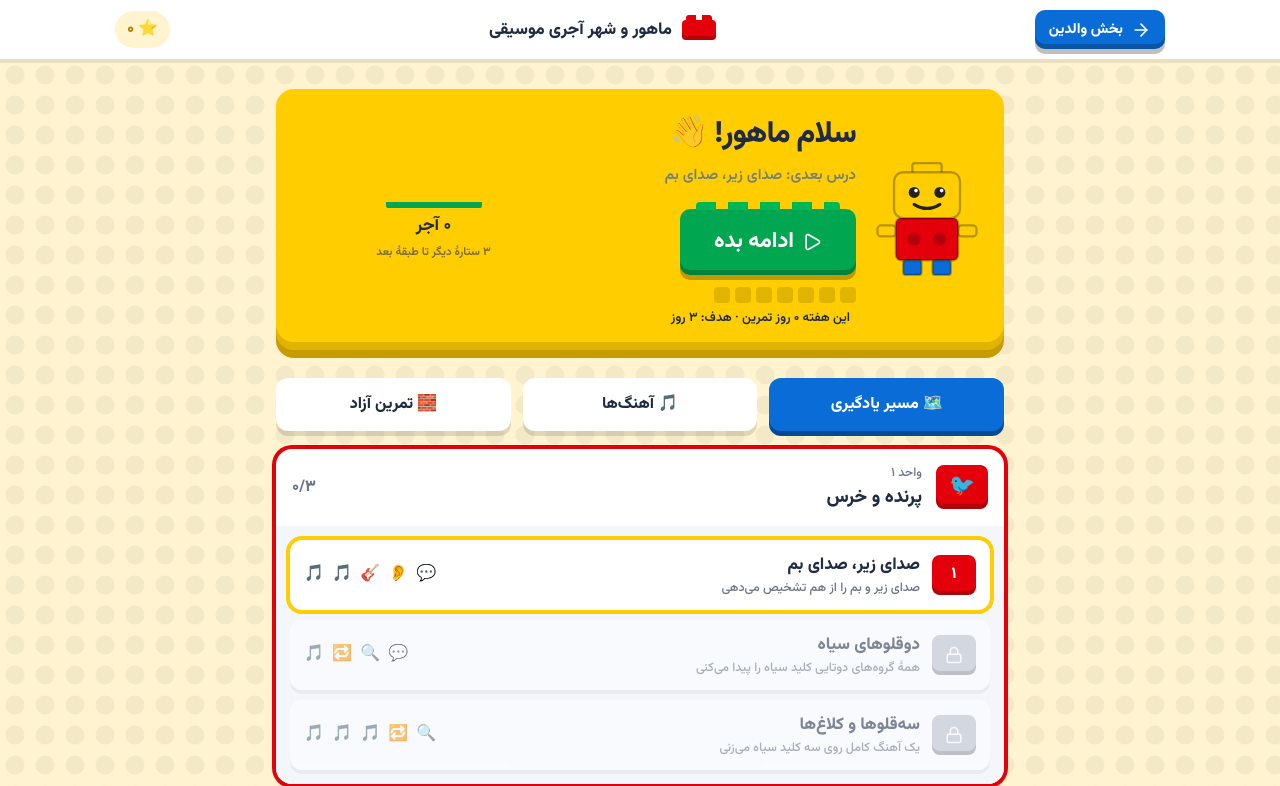
Test: a keyboard whose keys sit an octave down is learned, not fought
Click the tab "🧱 تمرین آزاد": (393, 404) [276,378,511,431]
(page scrolled)
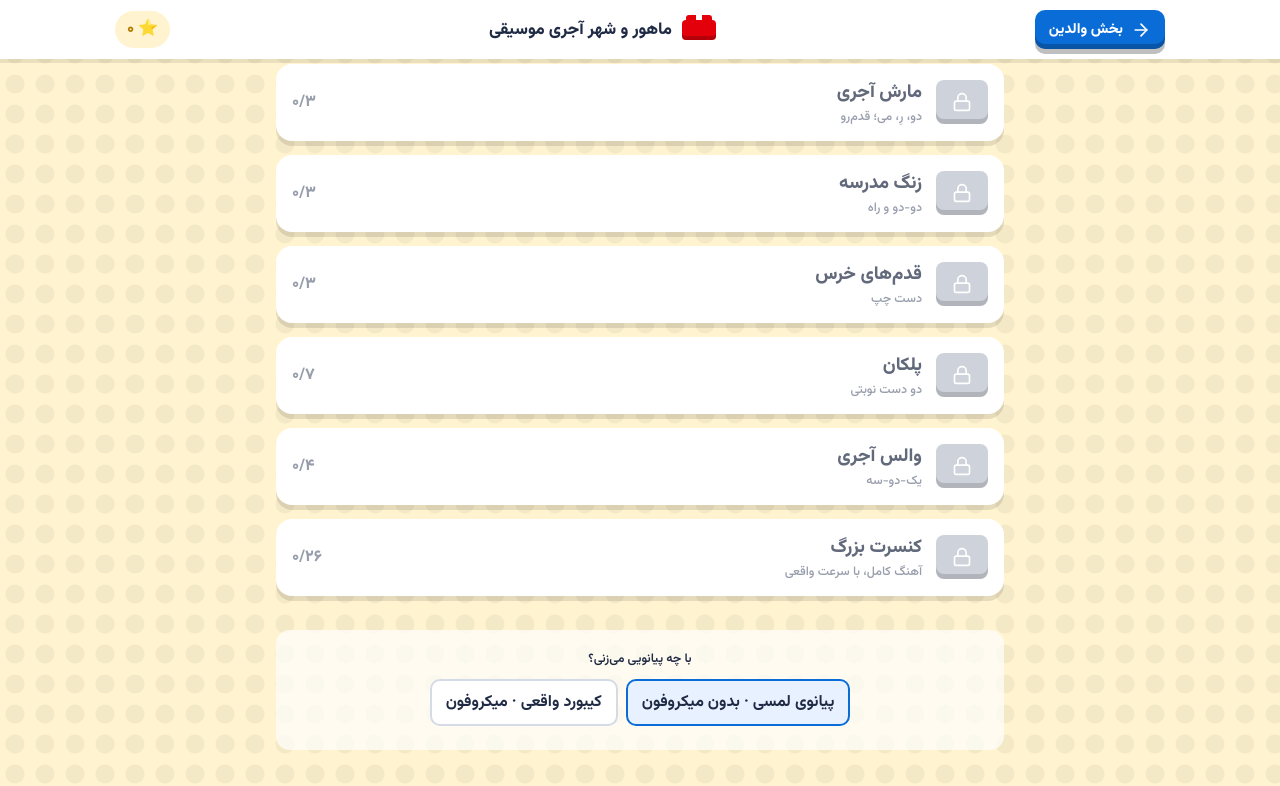
Click the button "کیبورد واقعی · میکروفون": (524, 702) [430,679,618,726]
(page scrolled)
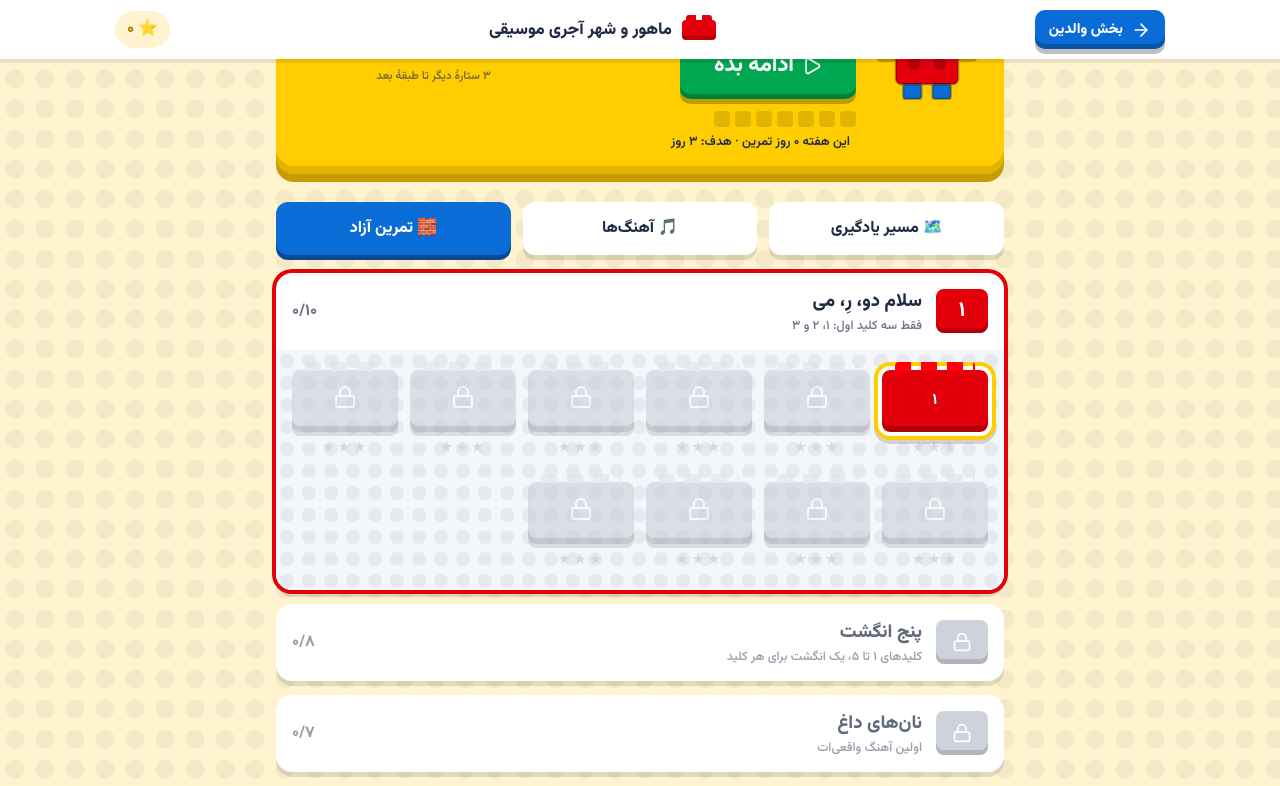
Click the button named "مرحله 1: سلام دو، رِ، می ۱": (935, 401) [882,370,988,432]
(page scrolled)
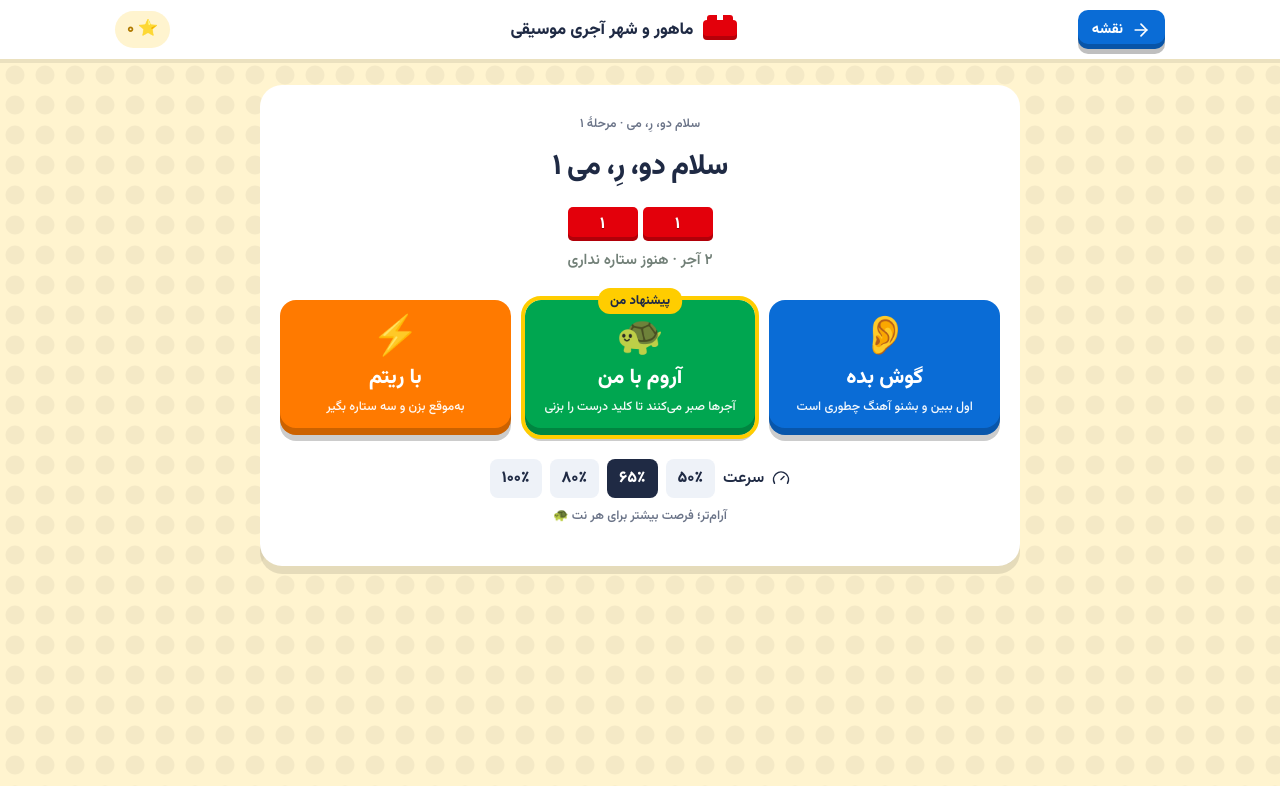
Click the button "⚡ با ریتم به‌موقع بزن و سه ستاره بگیر": (395, 367) [280,300,511,435]
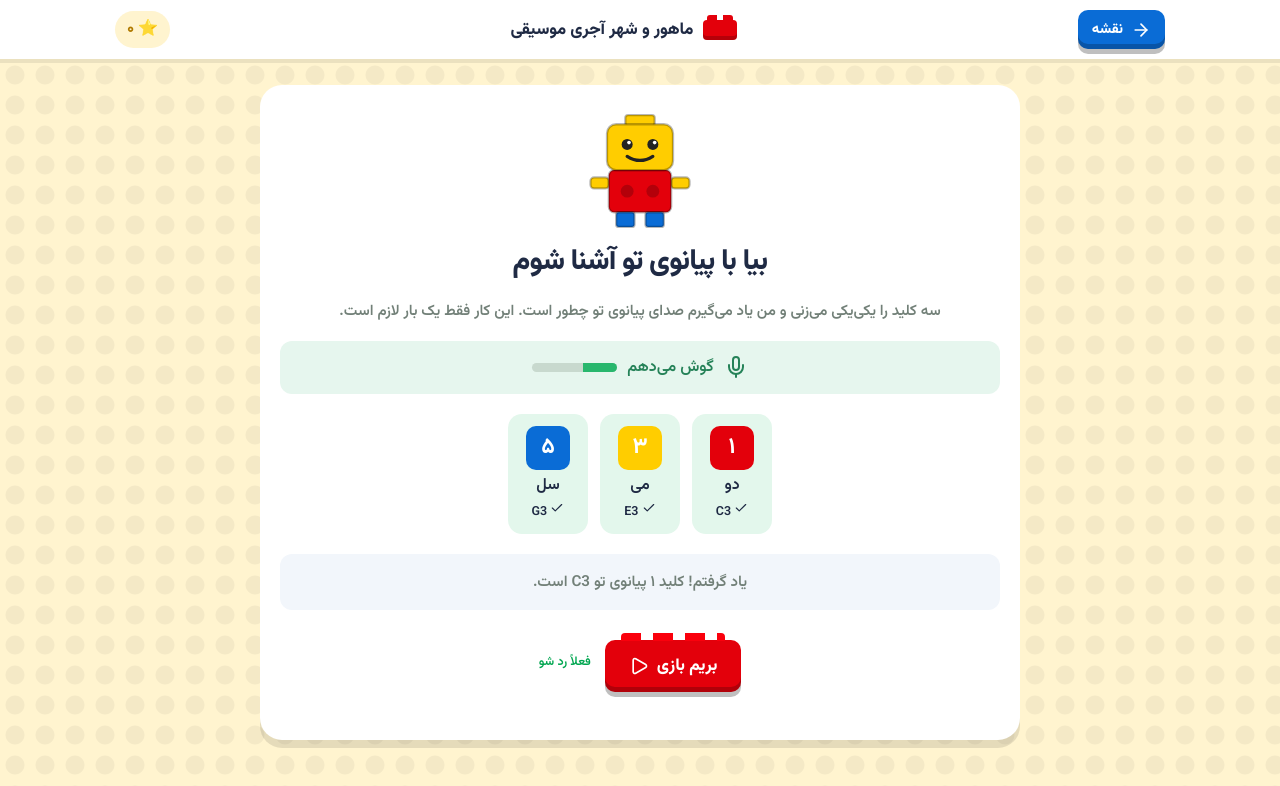
Result: the message shows "C3" at [533,570,747,594]
